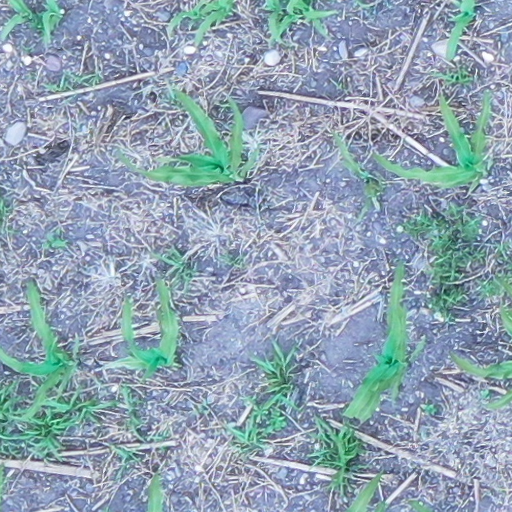planta: (121, 87, 244, 187), (370, 89, 490, 184), (344, 261, 407, 423), (103, 280, 179, 383), (330, 129, 384, 222)
